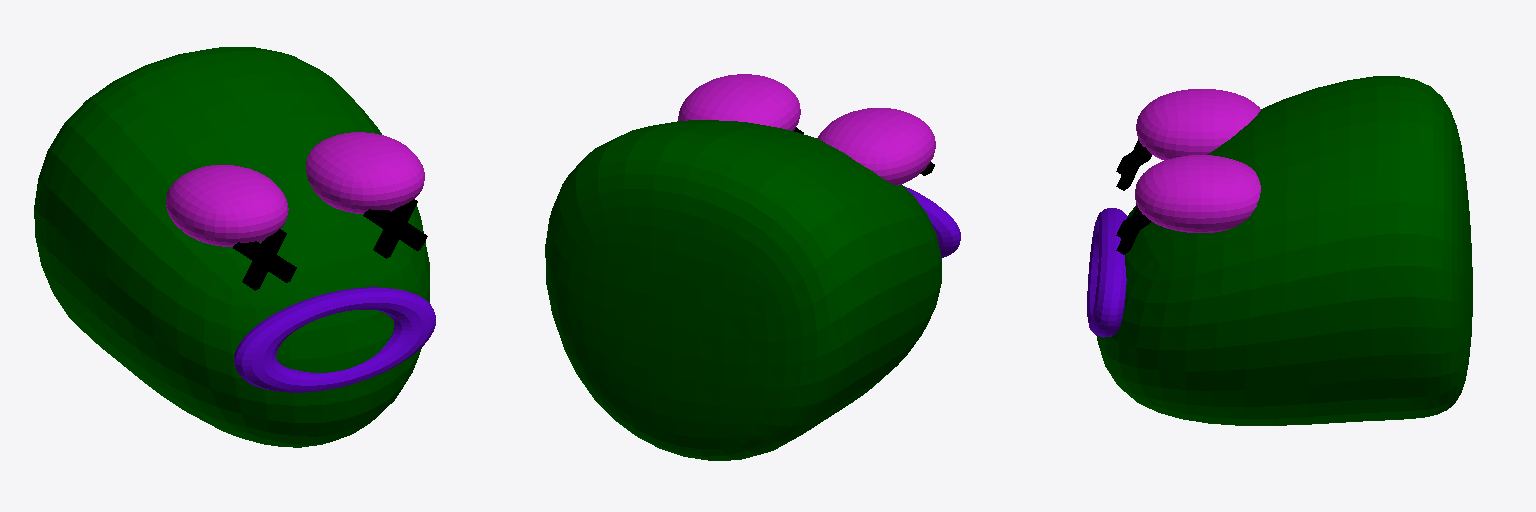
File: worm_dead_head.obj
The picture shows the model from 3 angles: view 1: azimuth 30°, elevation 25°; view 2: azimuth 150°, elevation 25°; view 3: azimuth 270°, elevation 25°; orthographic projection.
Visible parts, largest first — view 1: Cube.001, Toroide, Cubo.006, Cubo.007, Cube.003, Cube.006, Cube.005, Cube.004; view 2: Cube.001, Cubo.006, Cubo.007, Toroide; view 3: Cube.001, Cubo.007, Cubo.006, Toroide.
Boxes of the visible parts, <box> form: Cube.001: <box>34,47,429,447</box>; Toroide: <box>234,287,435,392</box>; Cubo.006: <box>166,165,288,246</box>; Cubo.007: <box>306,132,424,213</box>; Cube.003: <box>242,229,286,290</box>; Cube.006: <box>373,199,417,258</box>; Cube.005: <box>363,209,427,250</box>; Cube.004: <box>233,241,296,282</box>; Cube.001: <box>545,120,941,460</box>; Cubo.006: <box>817,108,935,185</box>; Cubo.007: <box>678,74,800,130</box>; Toroide: <box>904,186,960,257</box>; Cube.001: <box>1096,76,1472,425</box>; Cubo.007: <box>1135,155,1260,232</box>; Cubo.006: <box>1136,89,1260,160</box>; Toroide: <box>1087,208,1127,337</box>.
Bounding box in the file's own units: 1.43 × 1.36 × 1.53.